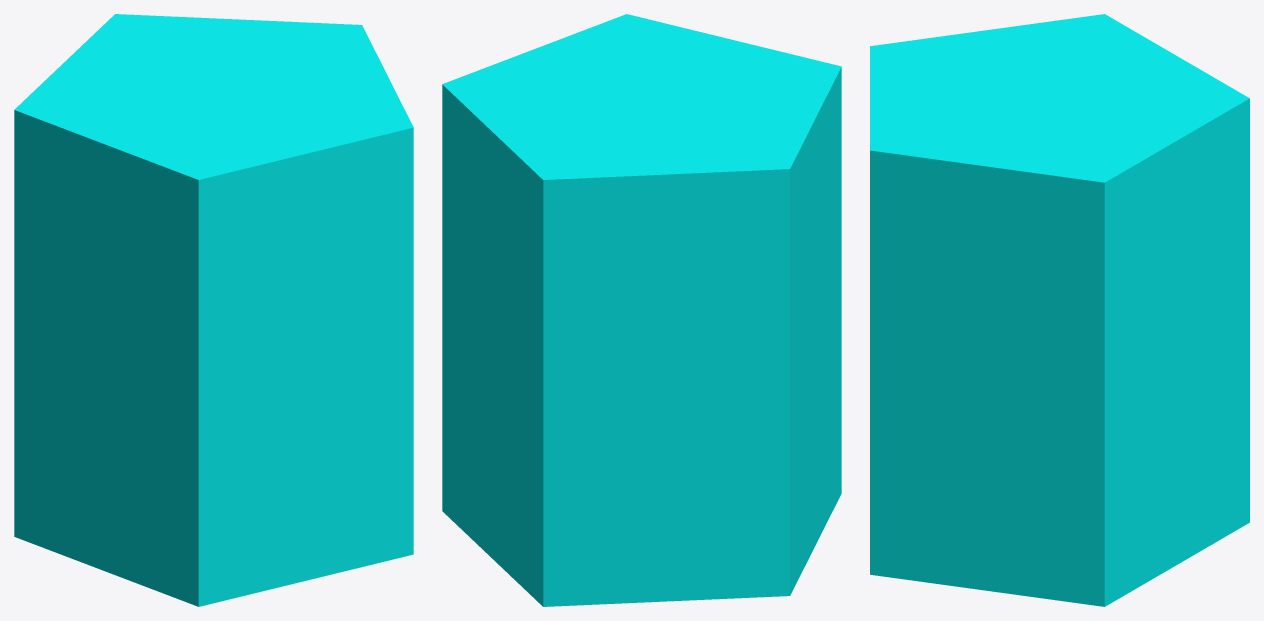
File: figura09.fbx
The picture shows the model from 3 angles, left to right: view 1: azimuth 30°, elevation 25°; view 2: azimuth 150°, elevation 25°; view 3: azimuth 270°, elevation 25°; orthographic projection.
Parts seen in each view (by area): view 1: Model; view 2: Model; view 3: Model.
Part boxes in pixels (left/top/right/bottom): Model: left=14, top=14, right=413, bottom=606; Model: left=442, top=14, right=841, bottom=606; Model: left=870, top=14, right=1249, bottom=606.
Size of the model in its own units: 7608 by 8921 by 7236.
